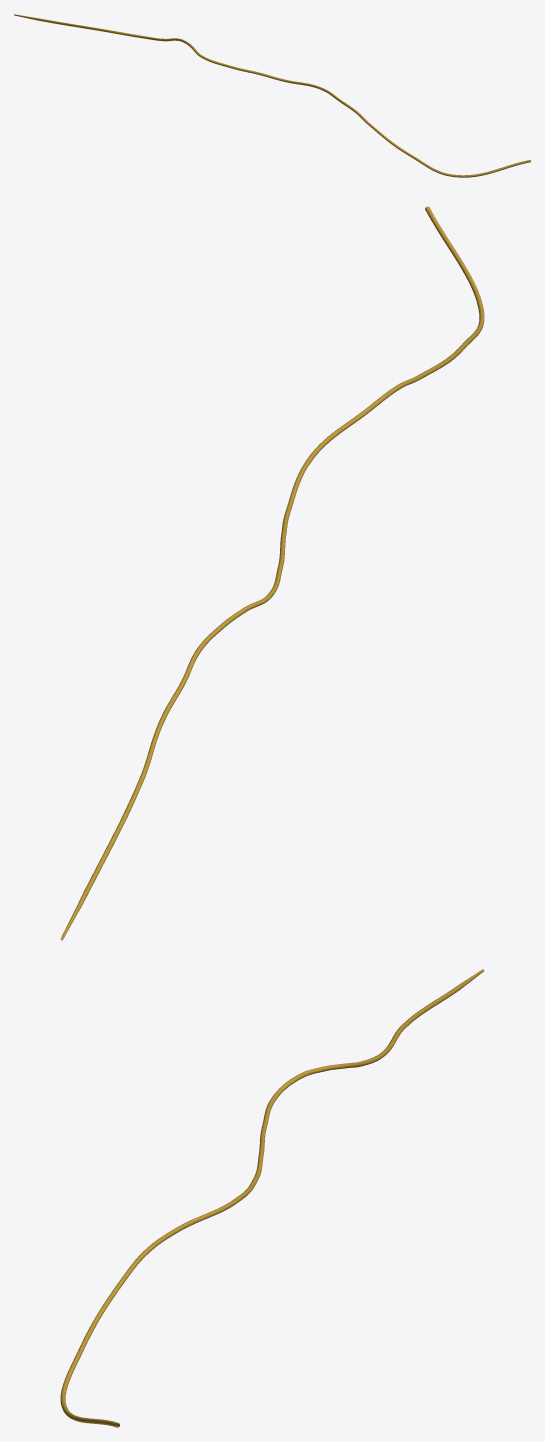
3 views of the same model, one above another, from view 1: azimuth 30°, elevation 25°; view 2: azimuth 150°, elevation 25°; view 3: azimuth 330°, elevation 25° (orthographic). The views are drawn at different scales.
Parts seen in each view (by area): view 1: 右侧正中神经; view 2: 右侧正中神经; view 3: 右侧正中神经.
Part boxes in pixels (<box>): 右侧正中神经: <box>14,14,530,177</box>; 右侧正中神经: <box>60,206,484,940</box>; 右侧正中神经: <box>60,969,484,1427</box>.
Size of the model in its own units: 0.2262 by 0.091 by 0.8165.
